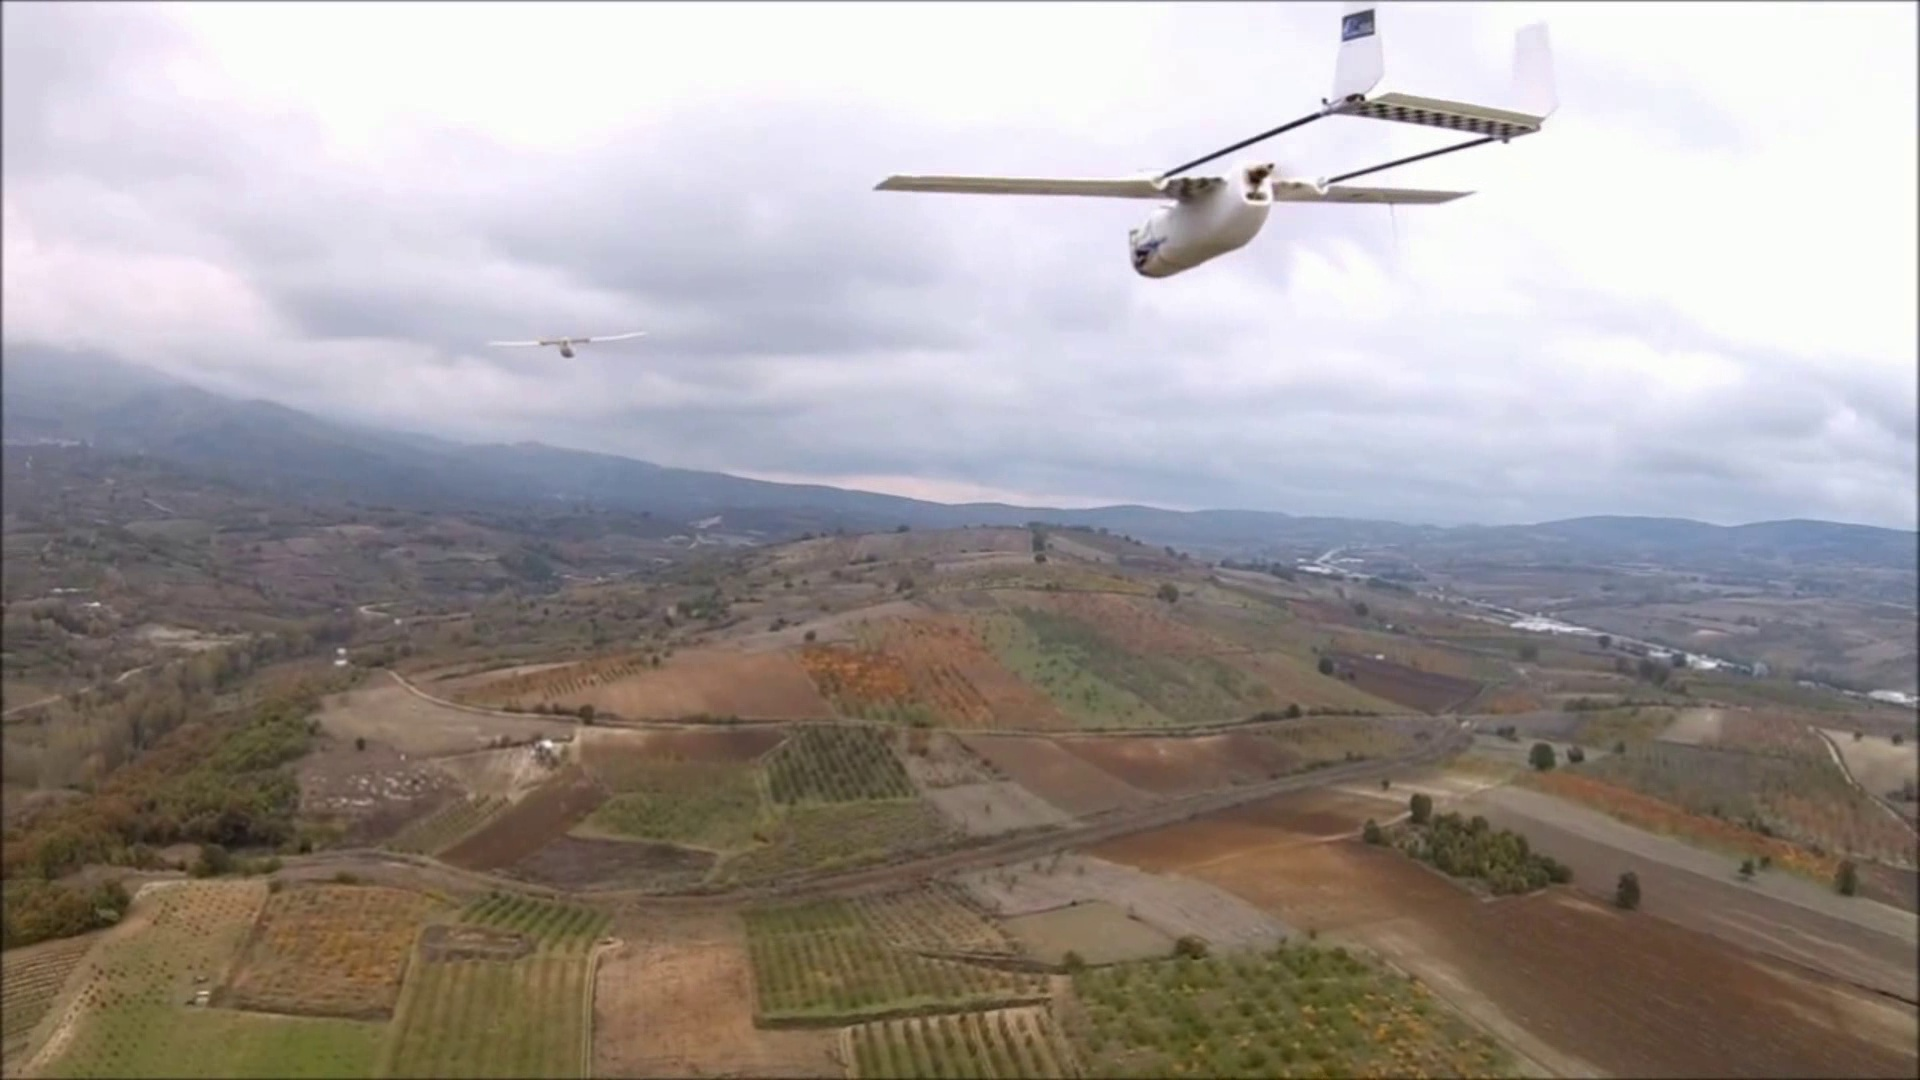airplane: (874, 7, 1556, 281)
